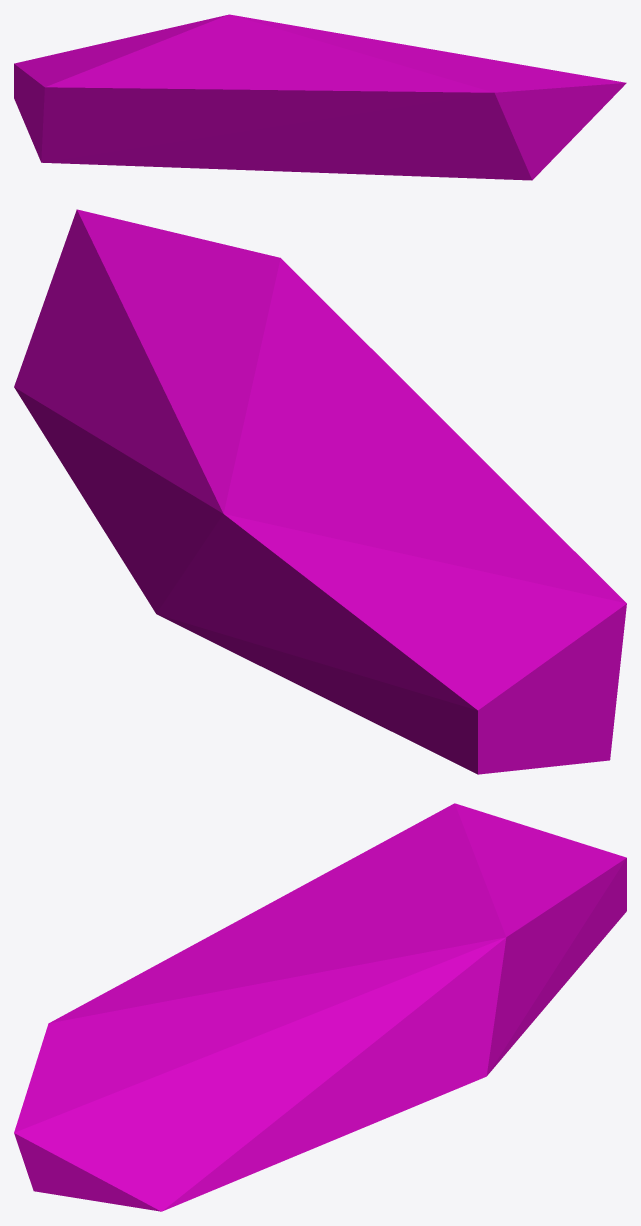
Rendered from coffee_convex_piece_018.obj.
3 views of the same model, one above another, from view 1: azimuth 30°, elevation 25°; view 2: azimuth 150°, elevation 25°; view 3: azimuth 270°, elevation 25° (orthographic). The views are drawn at different scales.
Bounding box in the file's own units: 0.000319 × 6.5e-05 × 0.000249.
